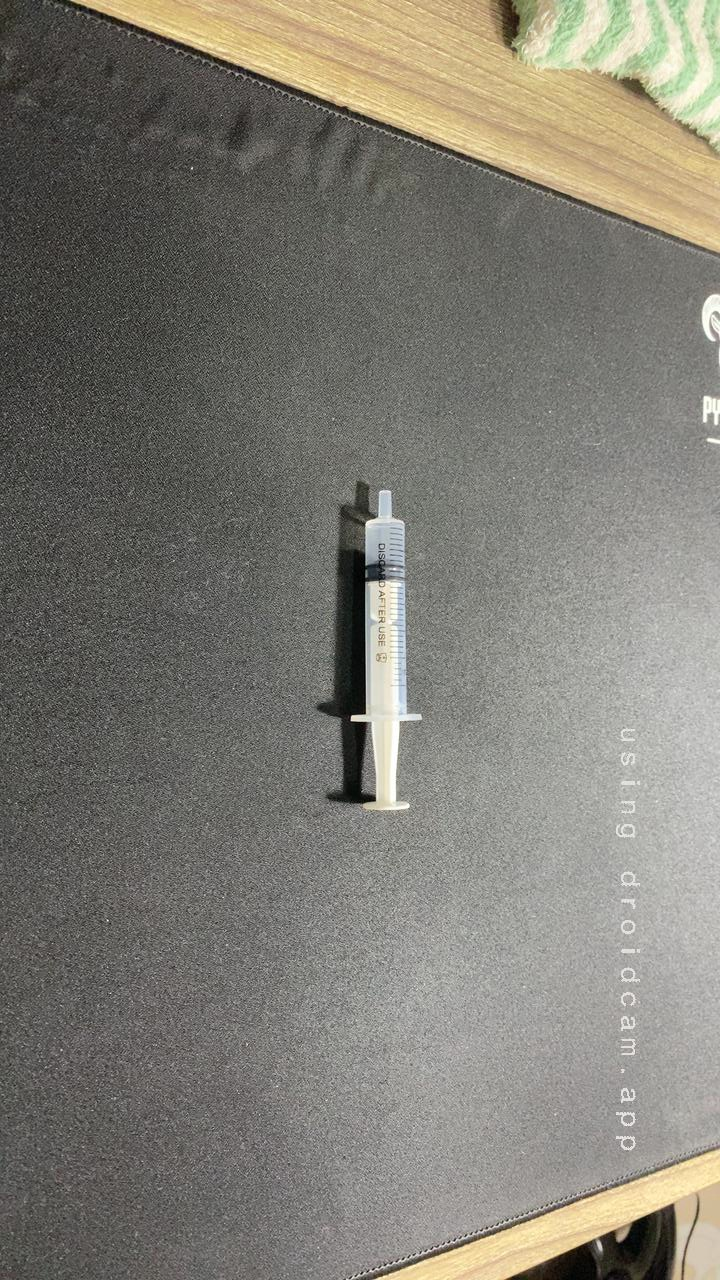syringe: (305, 466, 448, 820)
